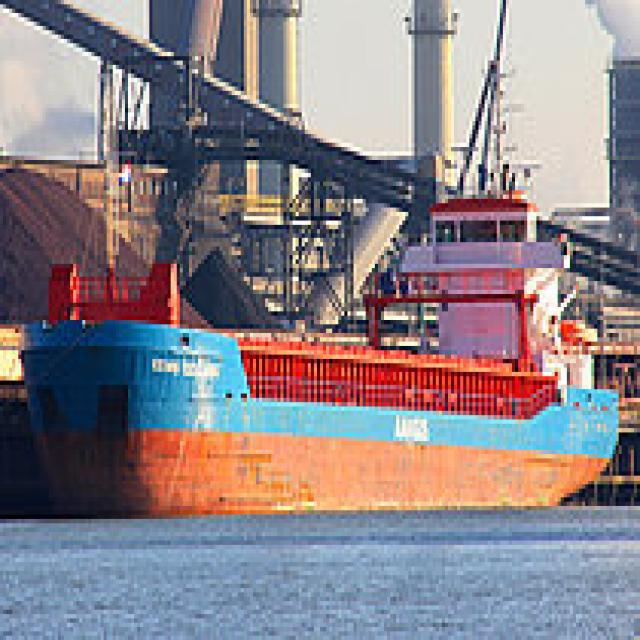Ship: (10, 148, 626, 516)
